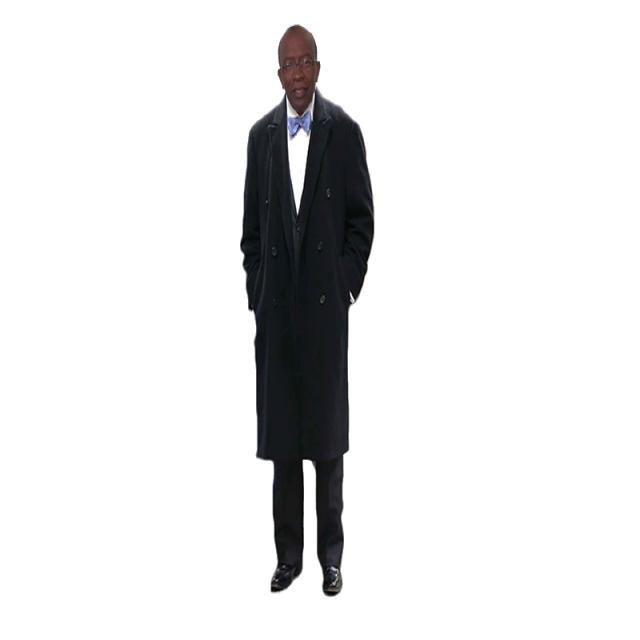jovem: (235, 22, 383, 594)
